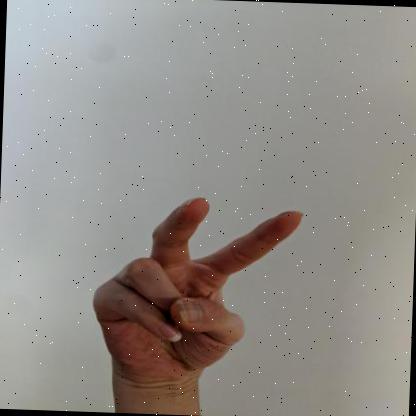V: (93, 197, 303, 387)
